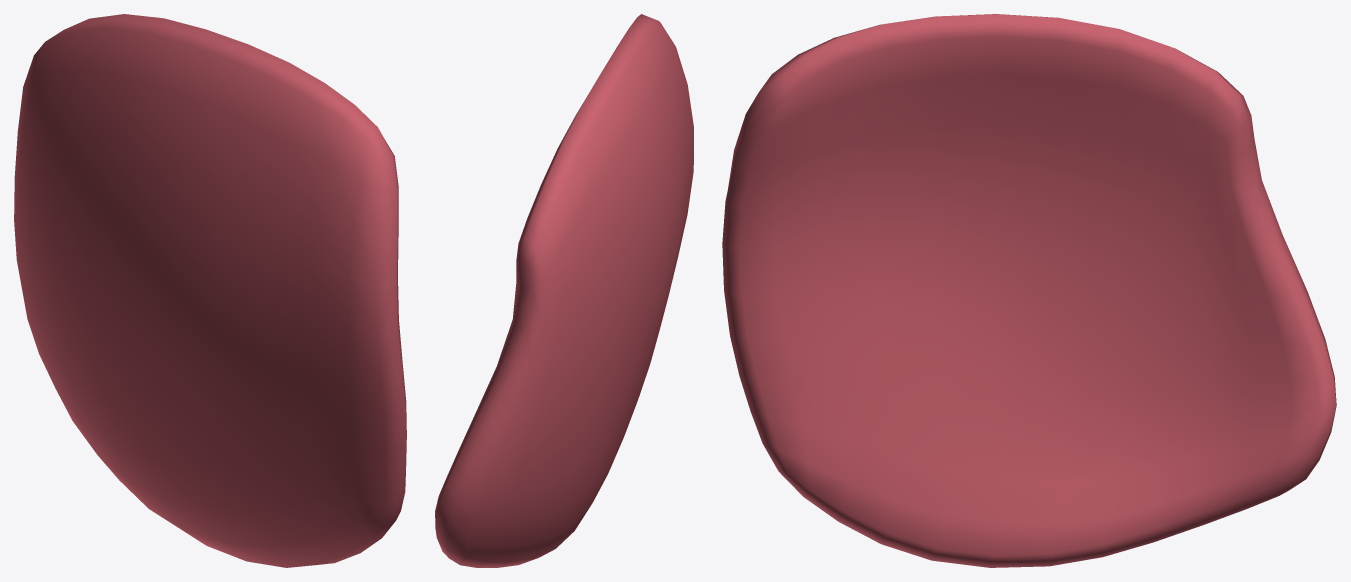
3 renders of one model, left to right at view 1: azimuth 30°, elevation 25°; view 2: azimuth 150°, elevation 25°; view 3: azimuth 270°, elevation 25°, orthographic. The views are drawn at different scales.
Visible parts, largest first — view 1: 左侧内踝皮下囊; view 2: 左侧内踝皮下囊; view 3: 左侧内踝皮下囊.
Boxes of the visible parts, bbox=[...] form: 左侧内踝皮下囊: bbox=[14, 14, 406, 567]; 左侧内踝皮下囊: bbox=[435, 14, 693, 567]; 左侧内踝皮下囊: bbox=[722, 14, 1336, 567].
Size of the model in its own units: 0.0103 by 0.0332 by 0.0345.
